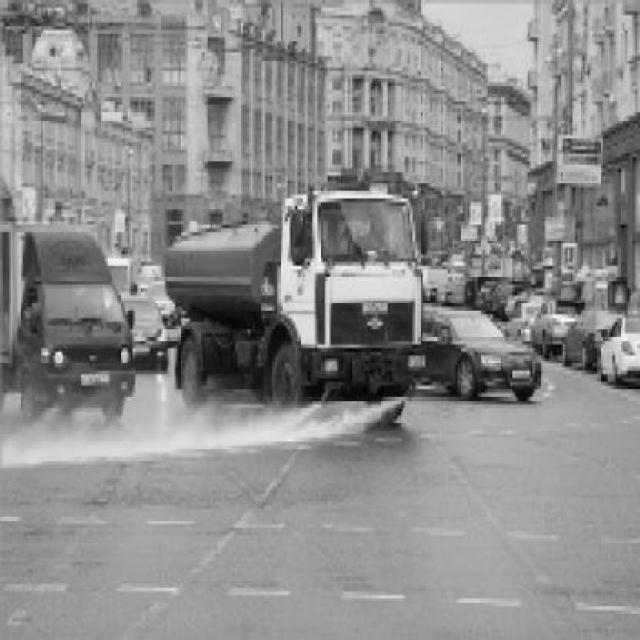Truck- 2-Axle: (165, 192, 427, 427)
